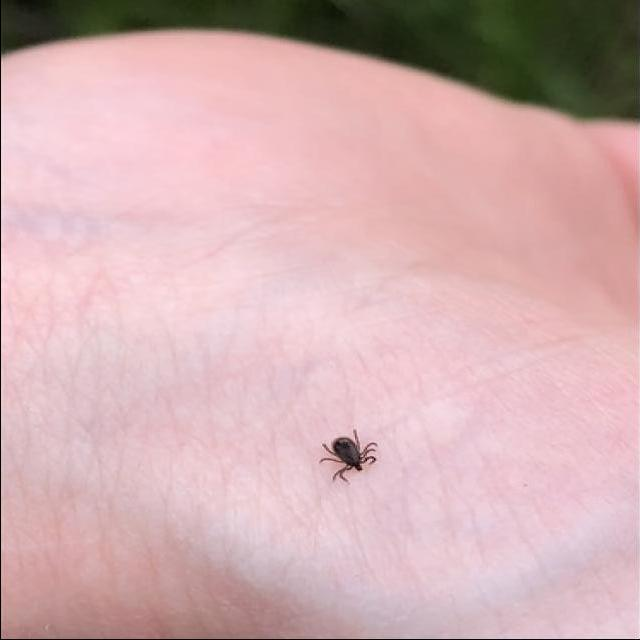Ixodes Ricinus-M: (319, 429, 381, 485)
